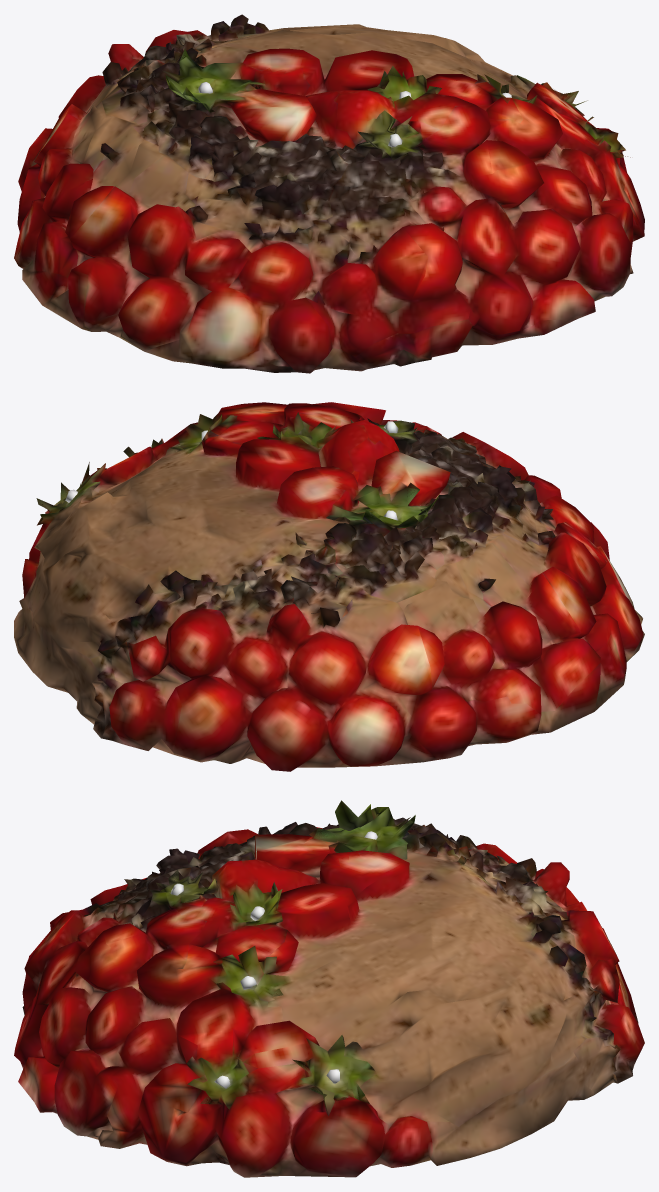
File: cake.glb
The picture shows the model from 3 angles, top to bottom: view 1: azimuth 30°, elevation 25°; view 2: azimuth 150°, elevation 25°; view 3: azimuth 270°, elevation 25°; orthographic projection. The views are drawn at different scales.
Parts seen in each view (by area): view 1: strawberry_chocolate_cake; view 2: strawberry_chocolate_cake; view 3: strawberry_chocolate_cake.
Part boxes in pixels (<box>): strawberry_chocolate_cake: <box>14,14,644,373</box>; strawberry_chocolate_cake: <box>14,402,644,771</box>; strawberry_chocolate_cake: <box>14,800,644,1177</box>.
Size of the model in its own units: 0.2435 by 0.0782 by 0.2402.
1 material, 1 textured.
